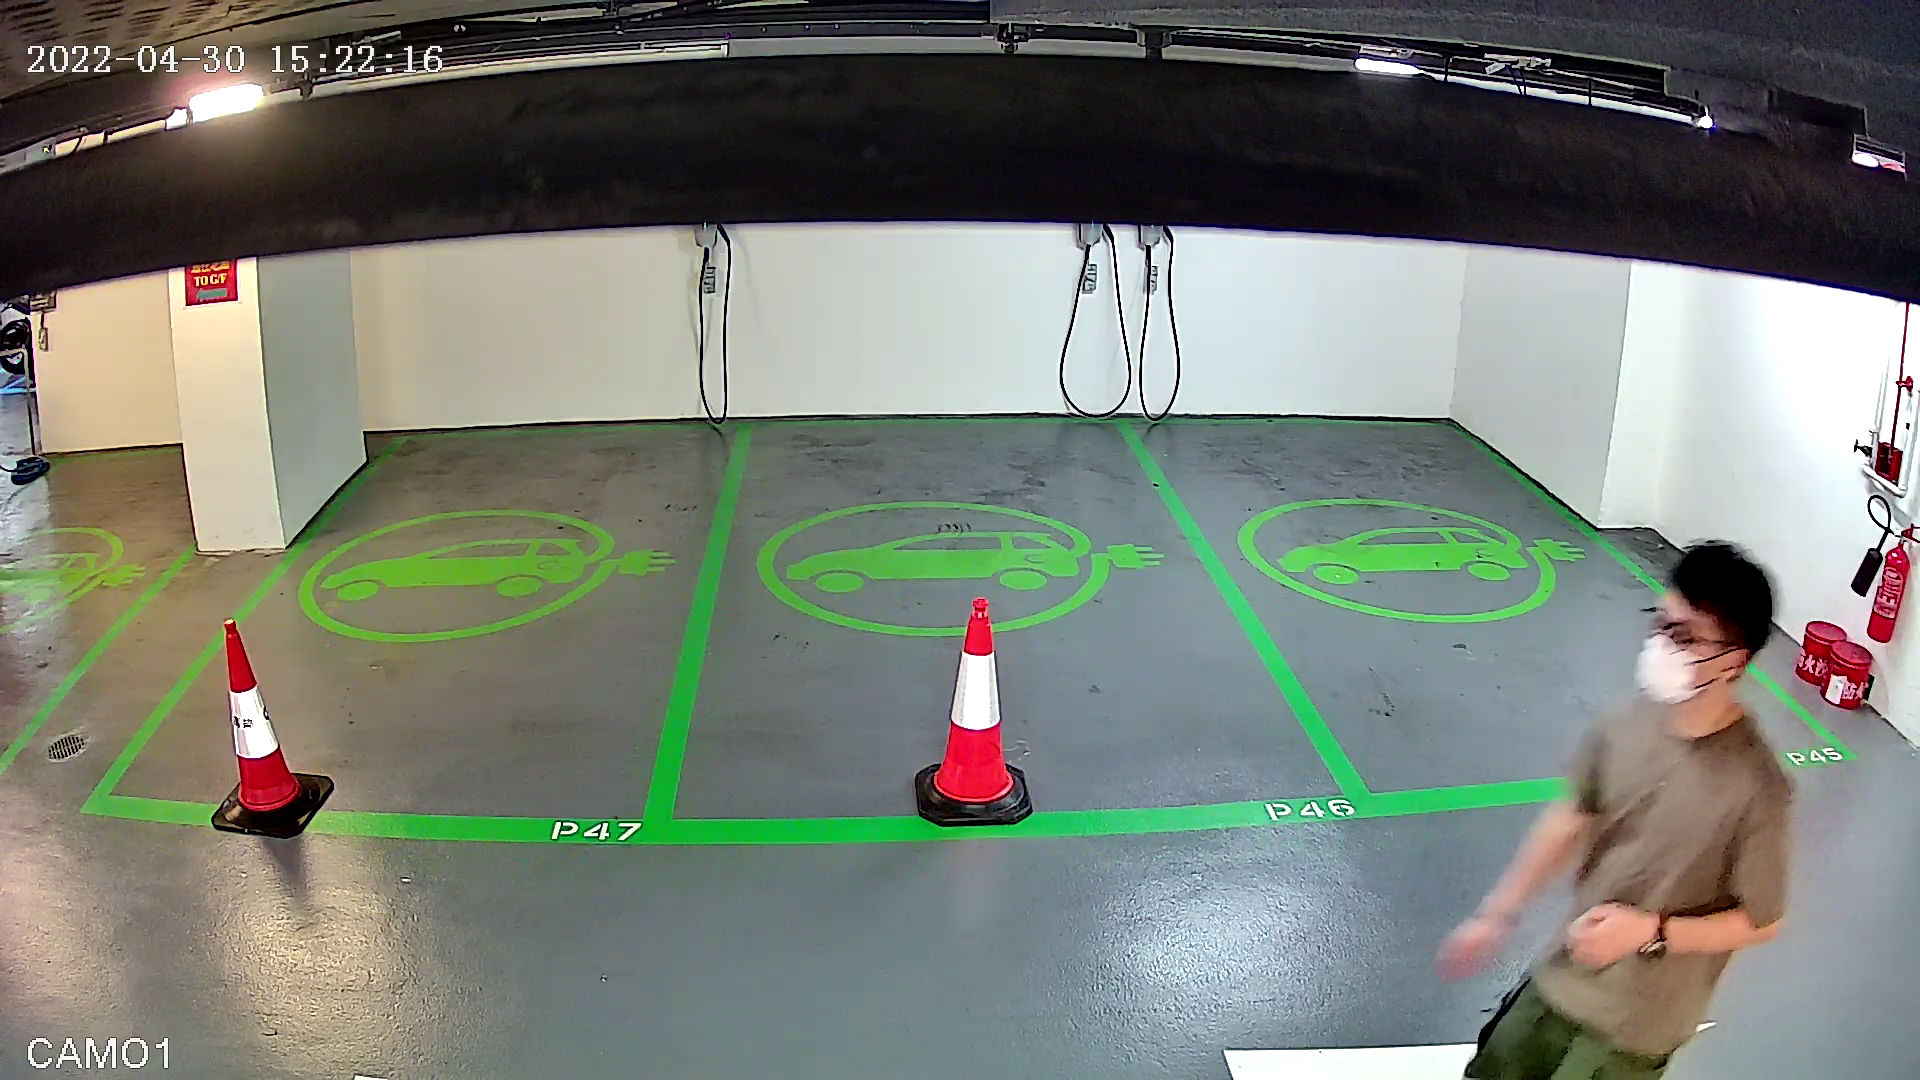space: (629, 363, 1389, 891), (40, 363, 756, 906), (1092, 363, 1883, 829)
